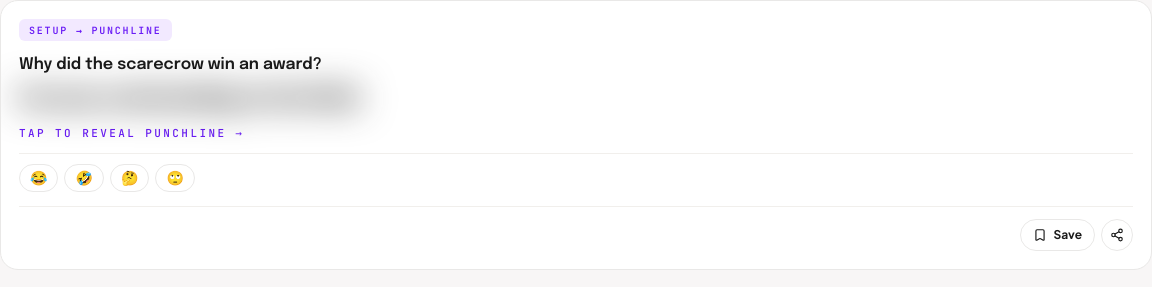
Test: FlowJokeCard — free reading and unavailable content › unlocked card reveals on tap and records the reveal
expect the text "Tap to reveal punchline →" is shown: met, box [19,126,244,140]
Click the text "Why did the scarecrow win an award?" at point(170, 64), box [19,56,322,73]
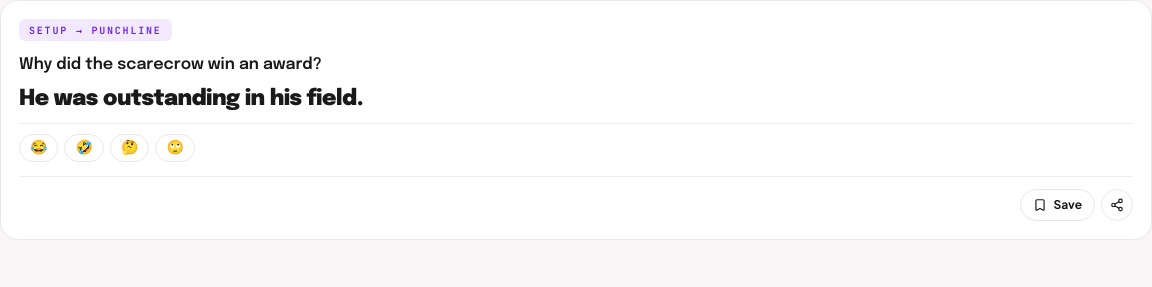
expect the text "Tap to reveal" is gone: met
